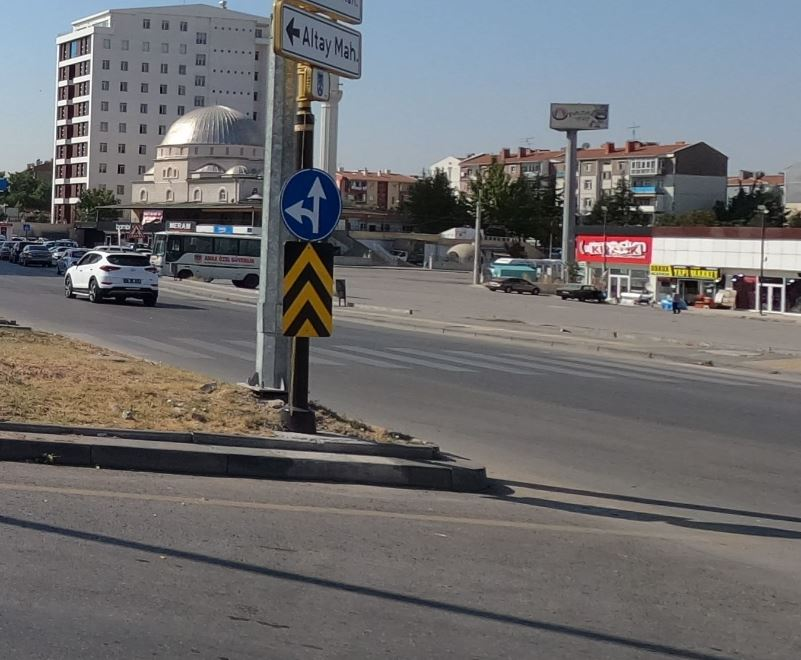ileri ve Sola Mecburi Don: (283, 166, 346, 237)
